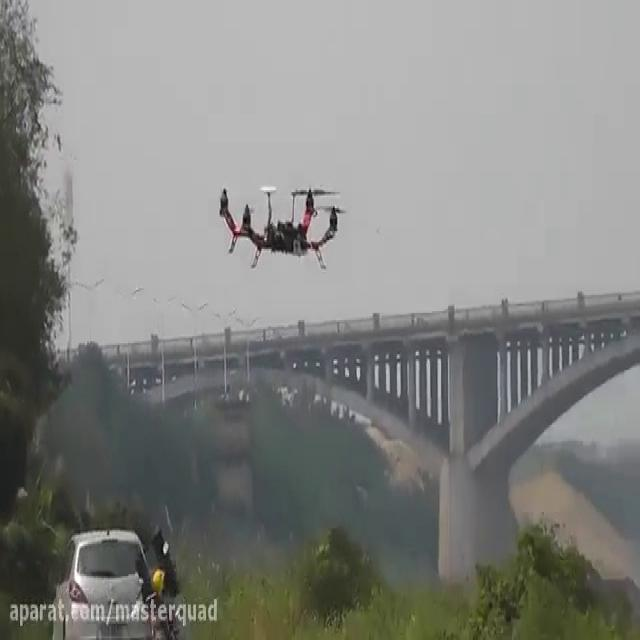drone: (212, 176, 348, 274)
